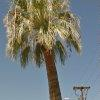Palm tree: (4, 2, 77, 98)
